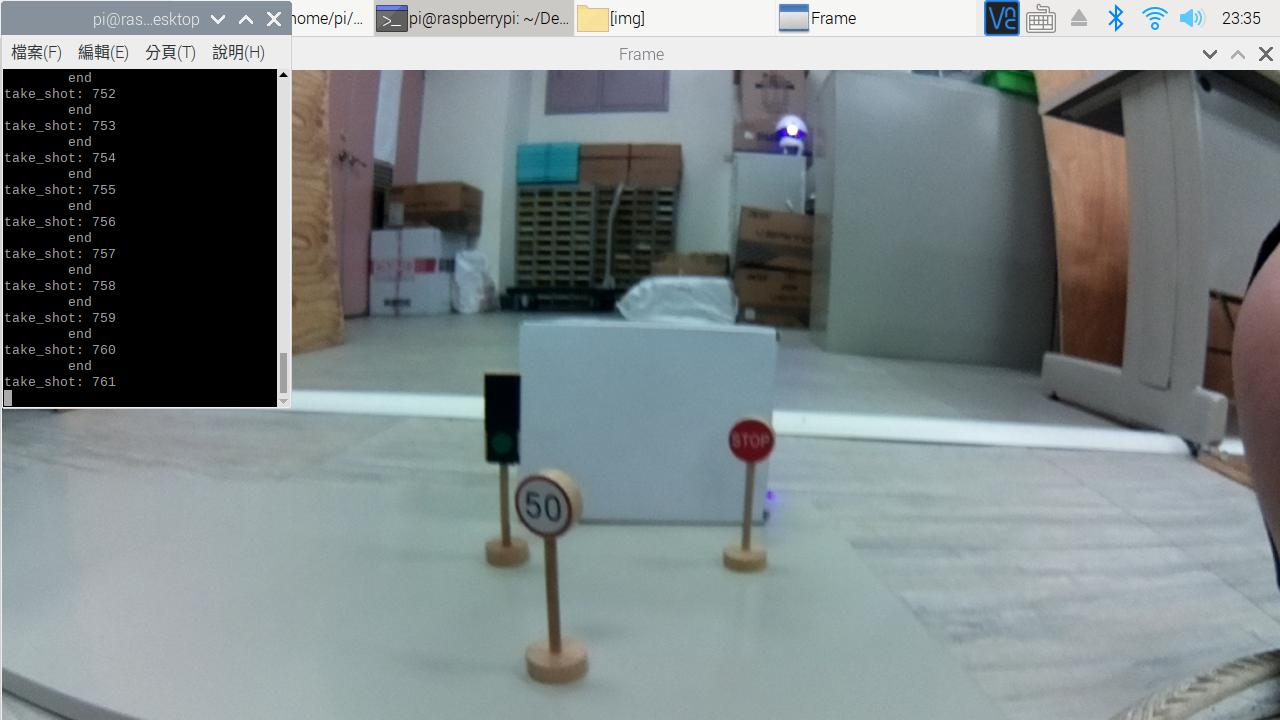Green: (474, 360, 526, 466)
Speed50: (508, 468, 583, 544)
Stop: (707, 409, 789, 475)
